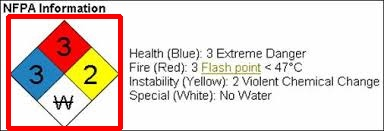nfpa: (8, 16, 120, 128)
